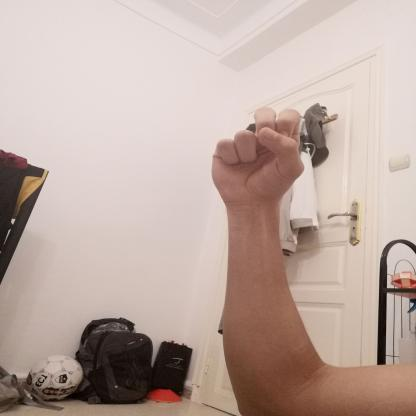QAAF: (197, 99, 320, 214)
